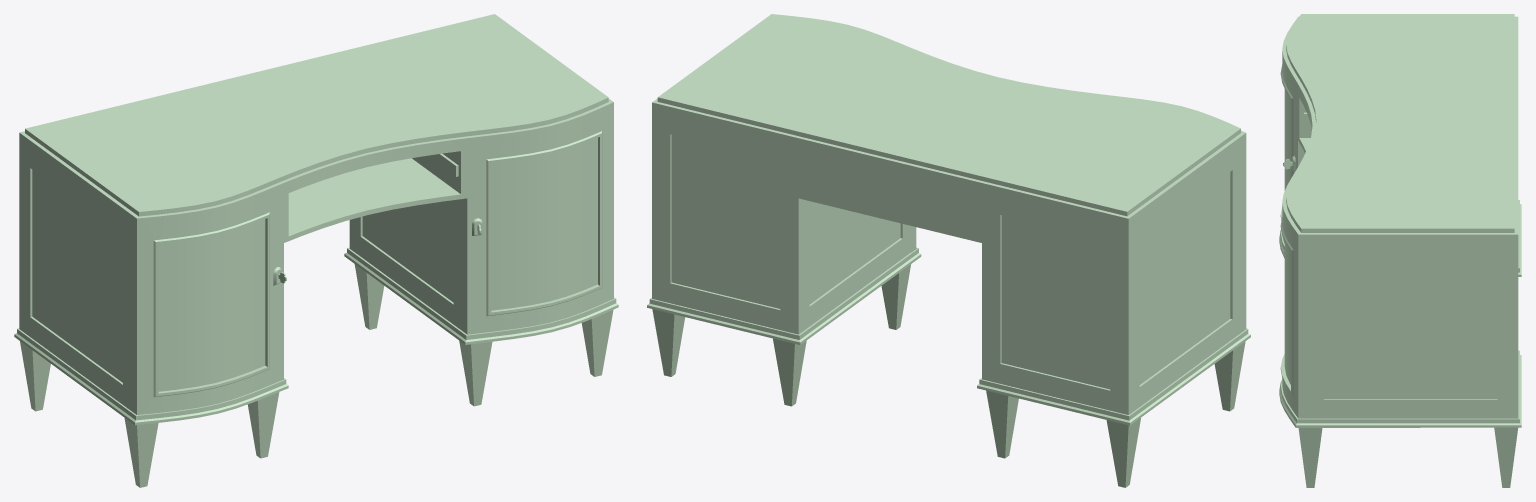
Rendered from SM_Desk_04a.fbx.
The picture shows the model from 3 angles, left to right: view 1: azimuth 30°, elevation 25°; view 2: azimuth 150°, elevation 25°; view 3: azimuth 270°, elevation 25°; orthographic projection. The views are drawn at different scales.
Visible parts, largest first — view 1: SM_Desk_04a; view 2: SM_Desk_04a; view 3: SM_Desk_04a.
Boxes of the visible parts, x1,y1,x2,y2 form: SM_Desk_04a: [14, 14, 618, 487]; SM_Desk_04a: [647, 14, 1250, 487]; SM_Desk_04a: [1279, 14, 1521, 487].
Bounding box in the file's own units: 202 × 112 × 93.93.
